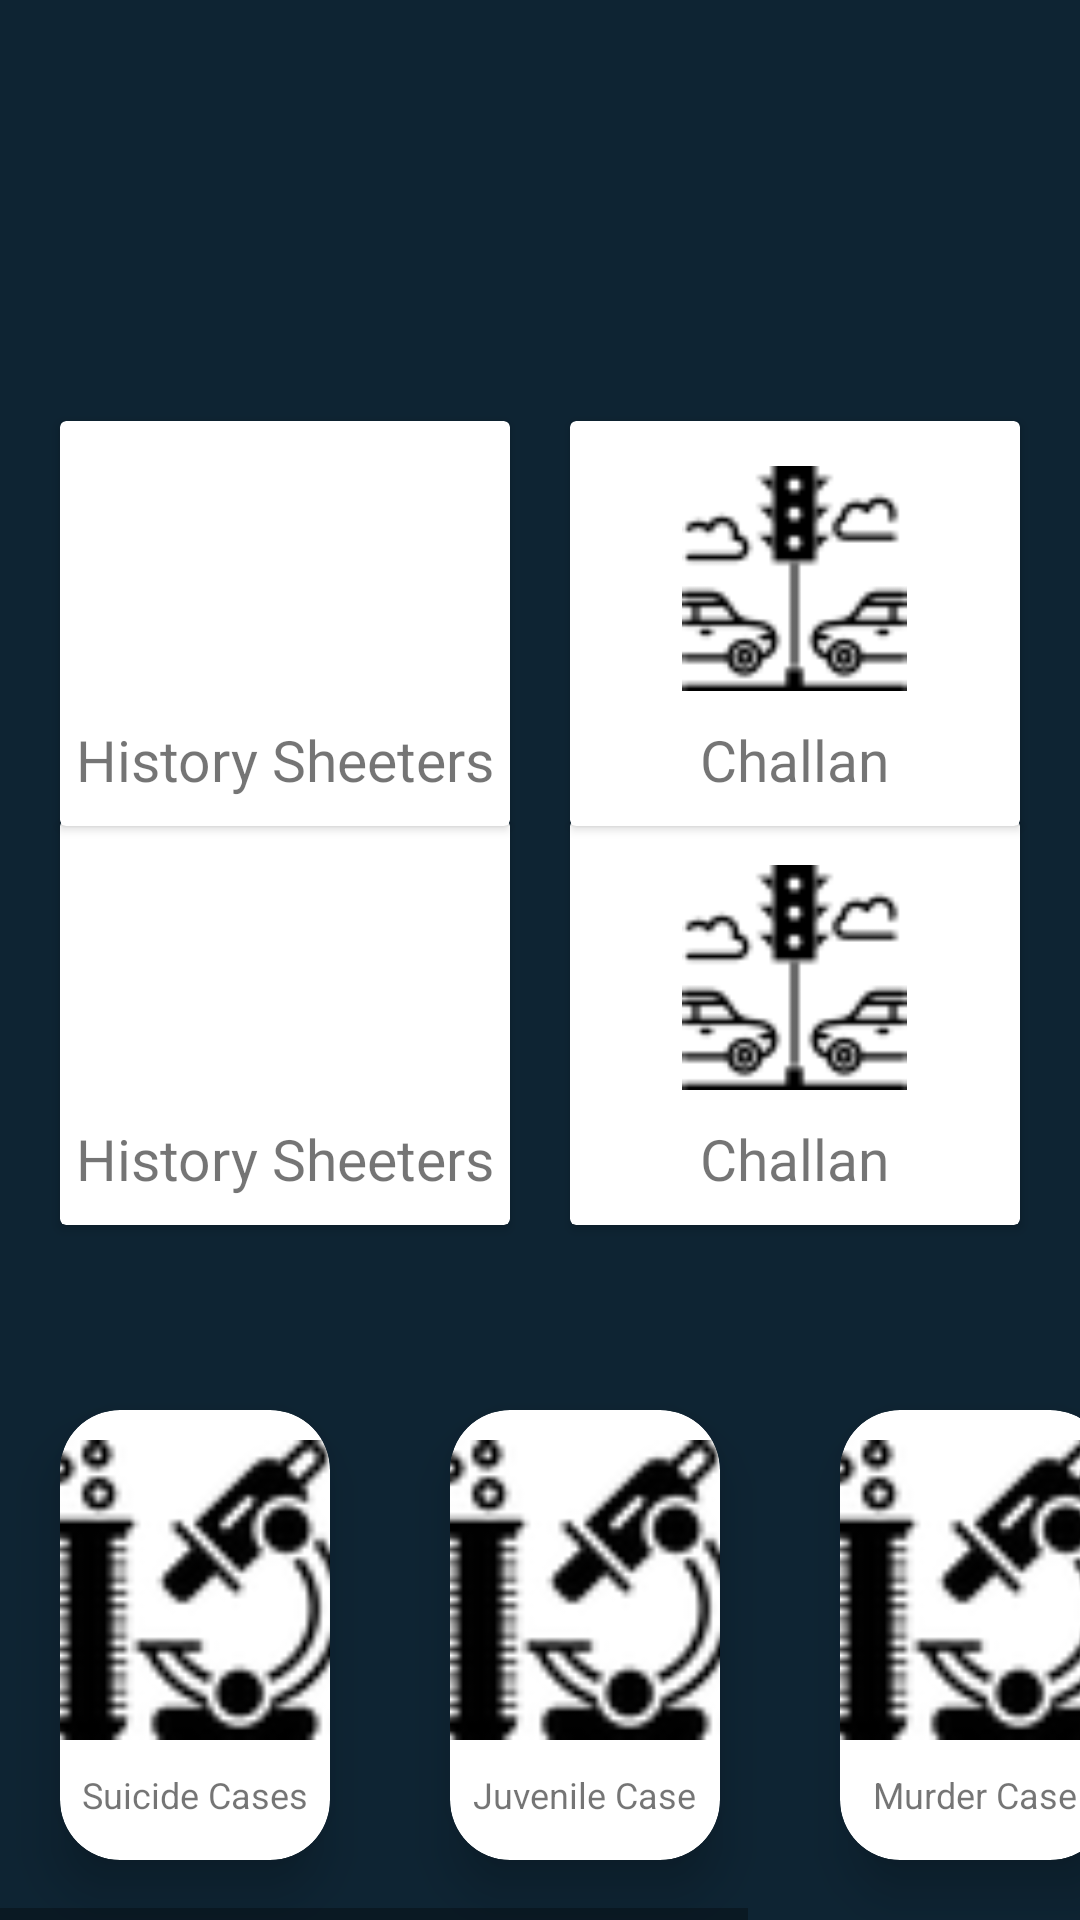

Icon click points for this 1080 x 1920 phone screenshot, format point (x, y):
traffic: point (794, 578), point (794, 977)
